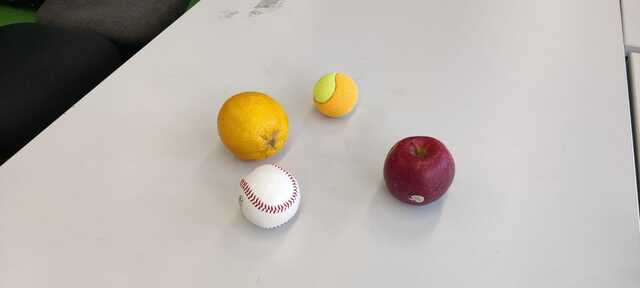013_apple: (384, 135, 456, 206)
017_orange: (216, 92, 290, 161)
055_baseball: (238, 164, 302, 229)
056_tennis_ball: (312, 72, 359, 119)
